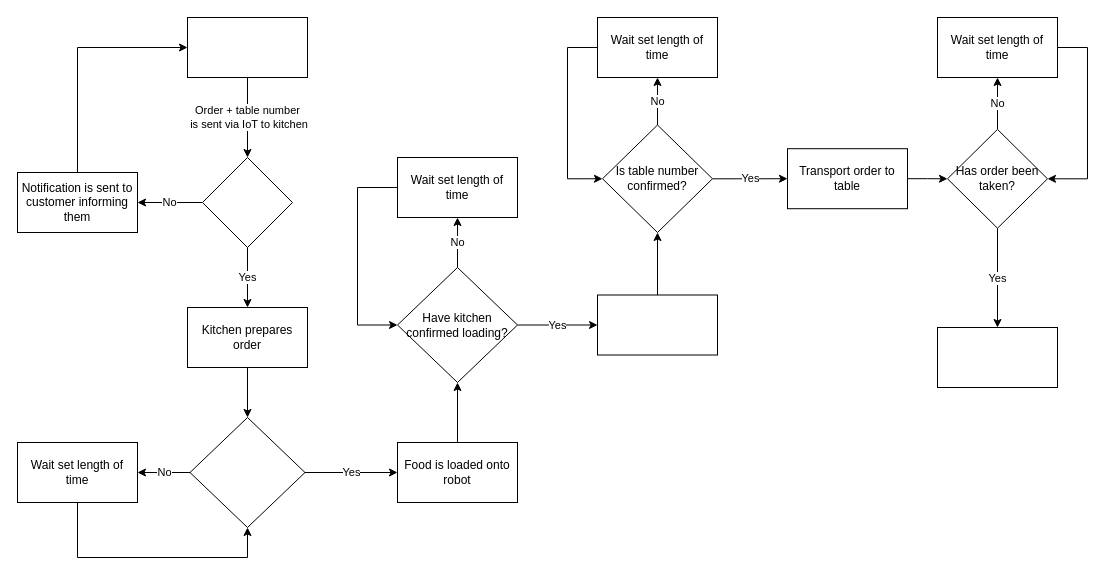
Some shapes in this 1113 by 583 pixel diagram are drawn without their labels. The shapes that lost their labels are listed below. From the top down, each one's box as (x1, y1, x2, y2) in pixels, then its label:
(186, 16, 308, 78): Customer orders on tablet
(202, 156, 292, 248): Is the order available?
(596, 294, 718, 355): Table number is sent to robot
(936, 326, 1058, 388): Return to dock
(189, 416, 305, 528): Is a robot waiter available?
